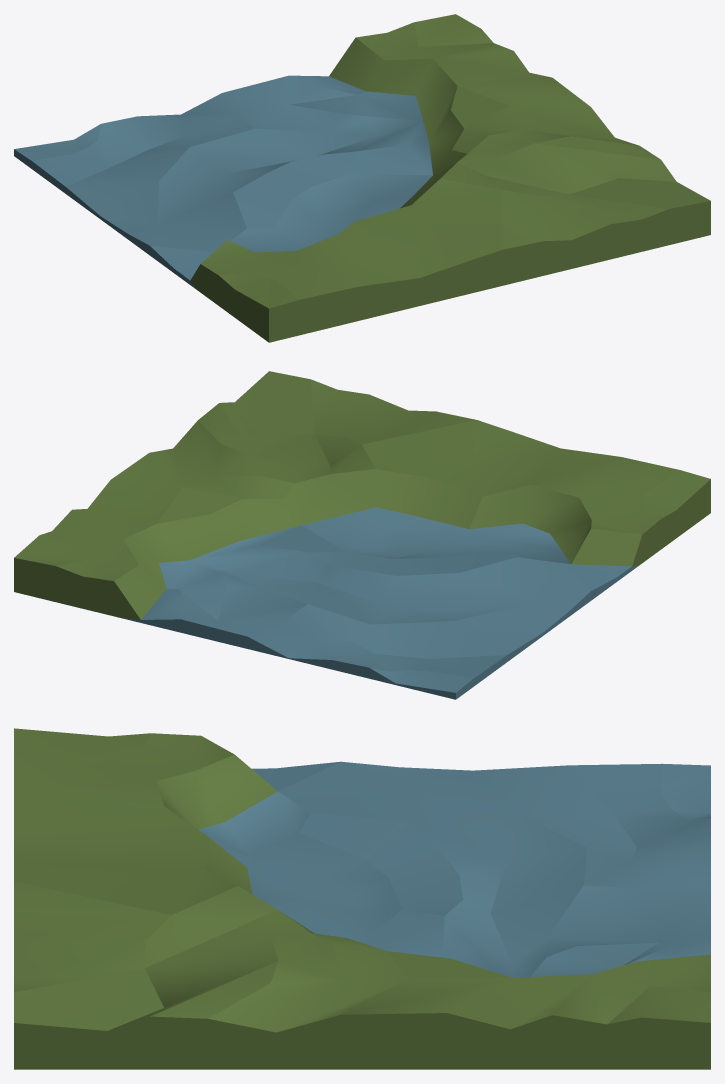
File: Water_Round_RB.glb
3 renders of one model, top to bottom at view 1: azimuth 30°, elevation 25°; view 2: azimuth 150°, elevation 25°; view 3: azimuth 270°, elevation 25°, orthographic. The views are drawn at different scales.
Visible parts, largest first — view 1: Water_Round_RB; view 2: Water_Round_RB; view 3: Water_Round_RB.
Boxes of the visible parts, x1,y1,x2,y2 form: Water_Round_RB: (14, 14, 710, 342); Water_Round_RB: (14, 371, 710, 699); Water_Round_RB: (14, 728, 710, 1069).
Bounding box in the file's own units: 1.47 × 0.1345 × 1.47.
